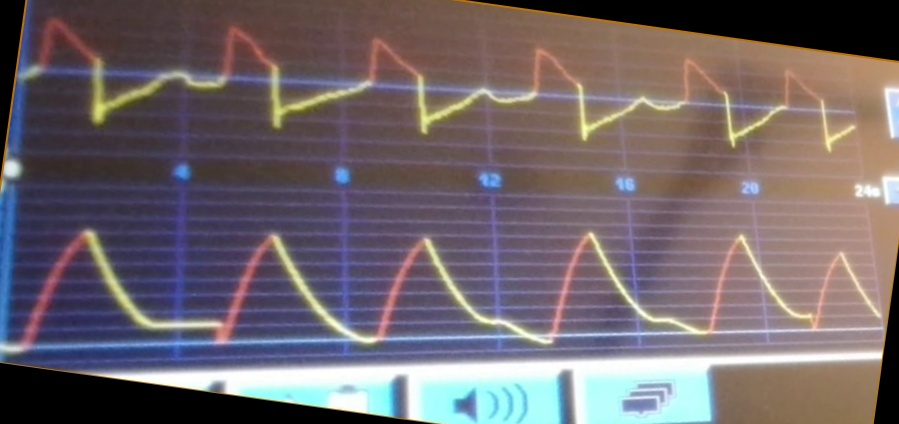Ineffective_effort Flow: (30, 15, 855, 156)
Ineffective_effort Volume: (13, 224, 880, 352)
